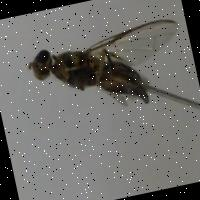Oriental-fruit-fly: (18, 4, 196, 134)
